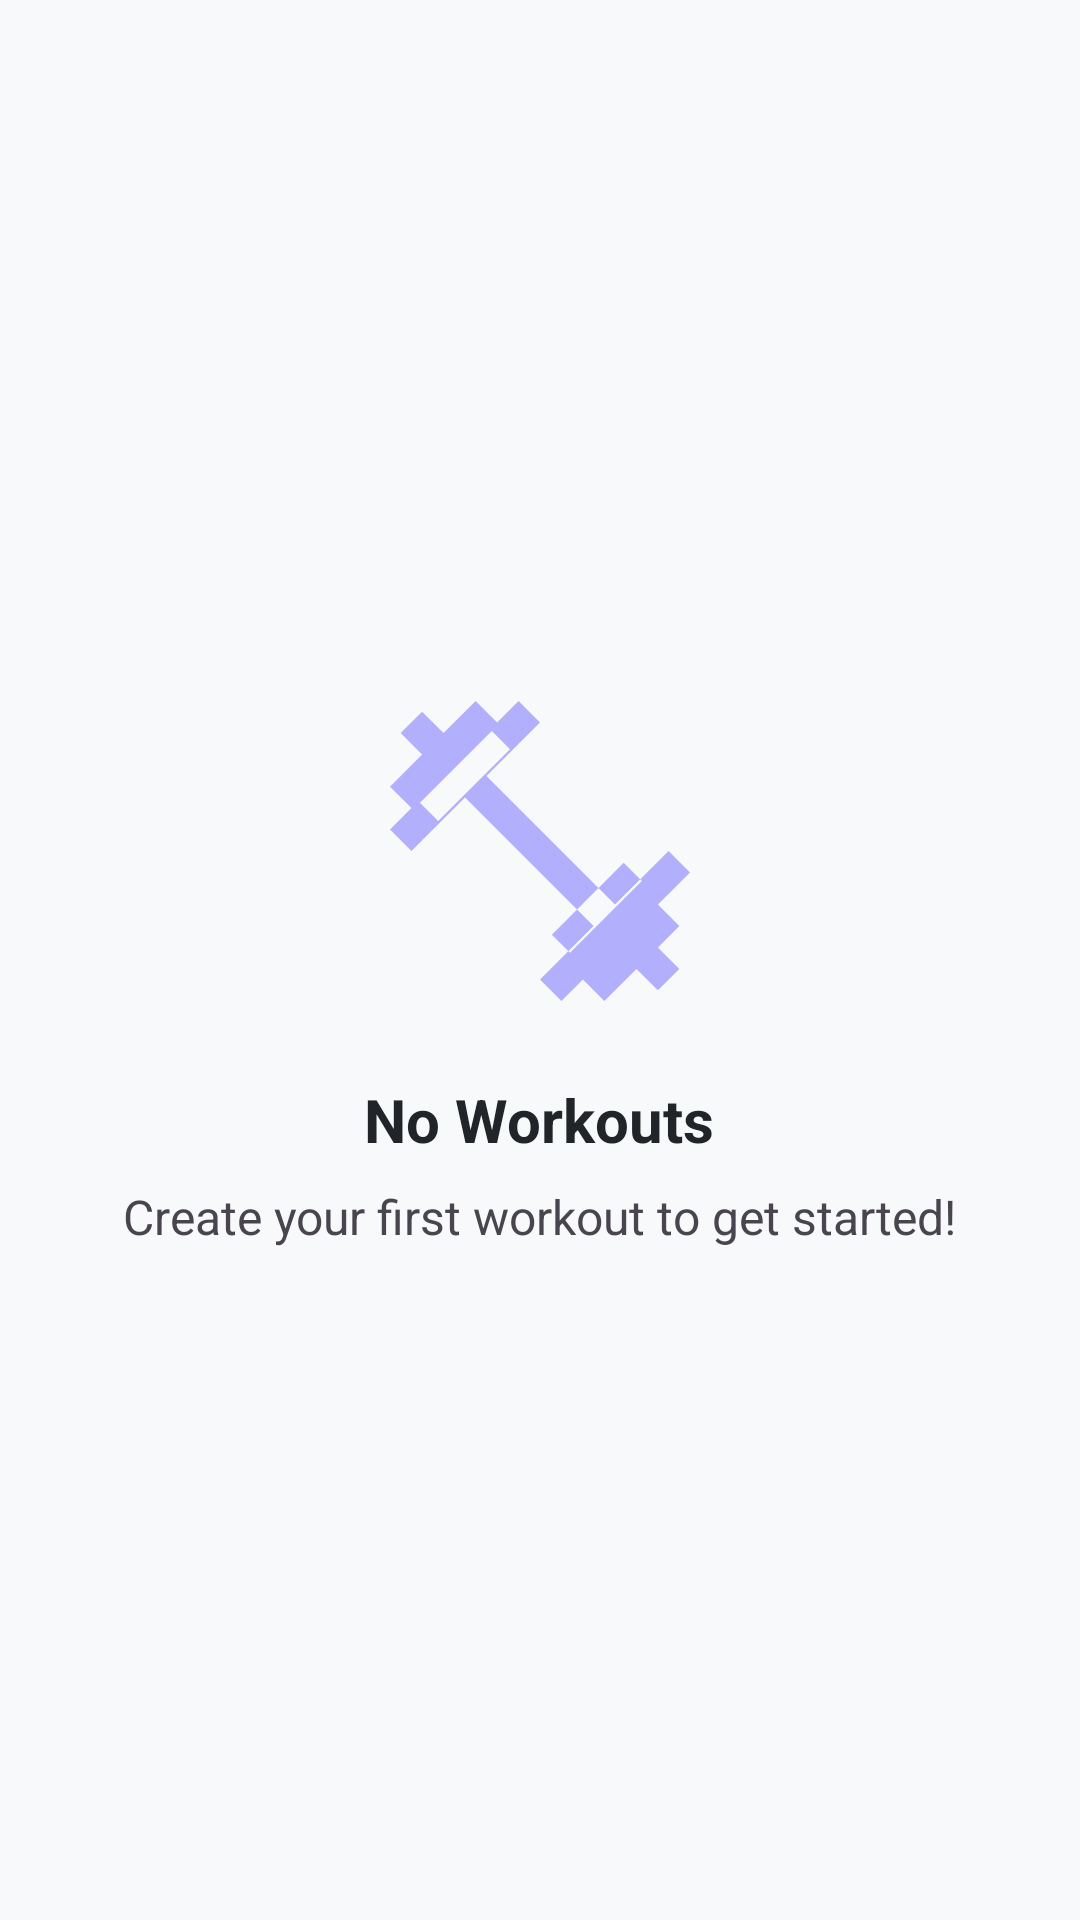

Icons on this 1080×1920 Android screen, each with the point to tap as [x,y]:
fitness center: [540,851]
